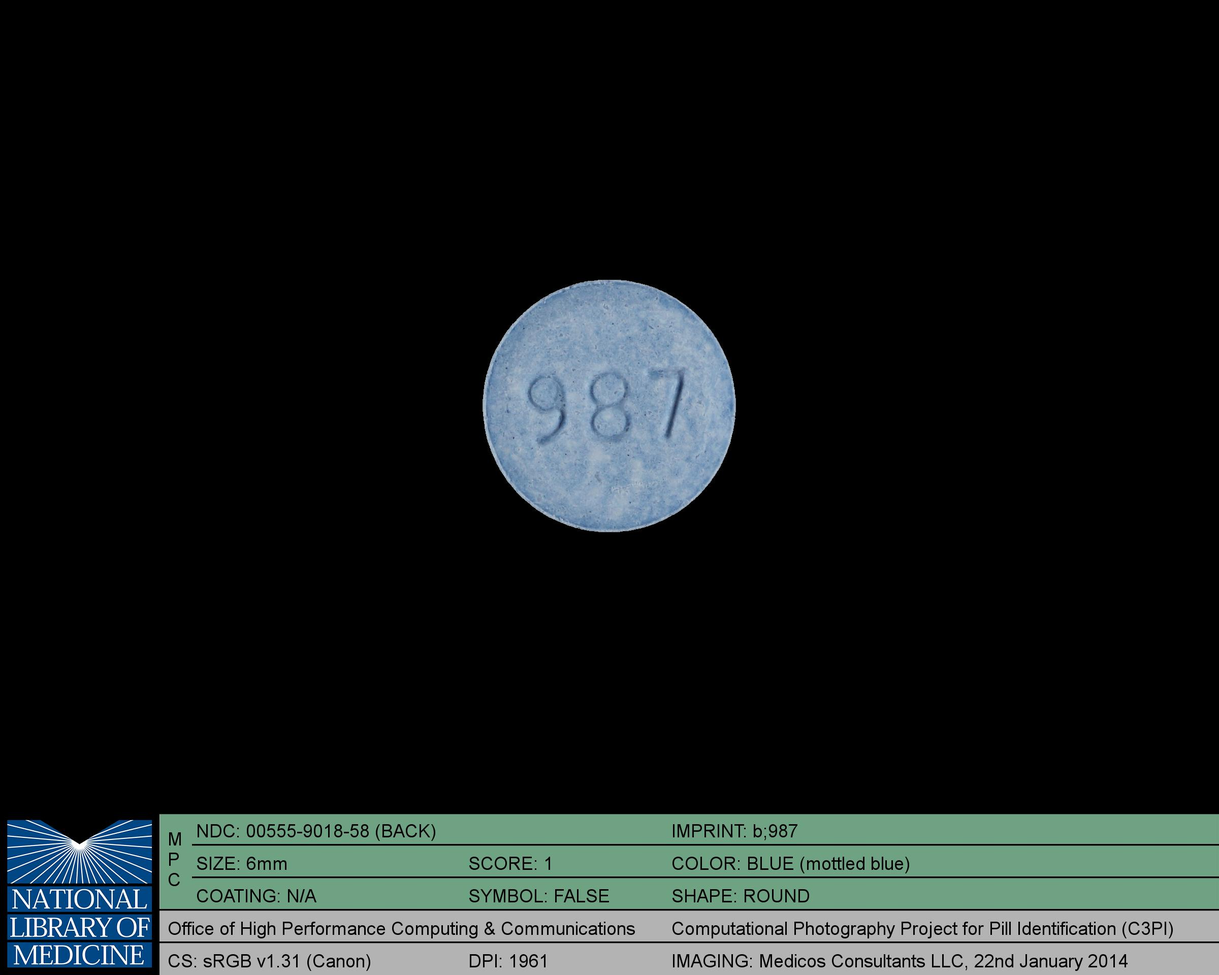Pill: (471, 267, 747, 542)
